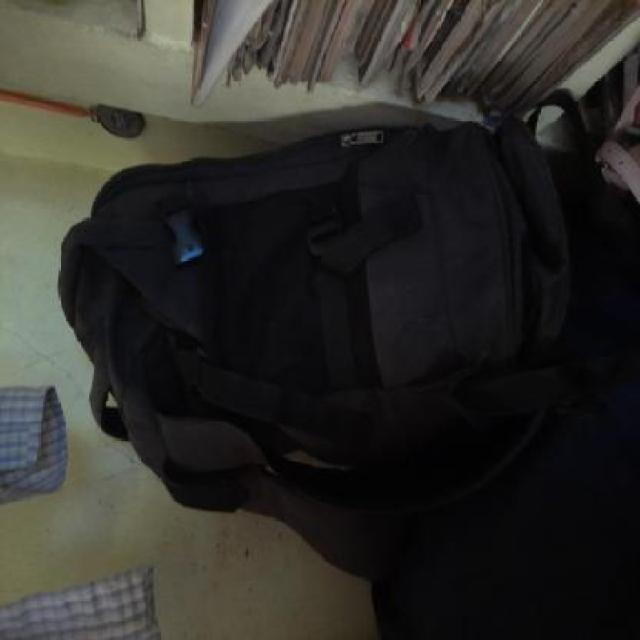backpack: (52, 106, 586, 525)
